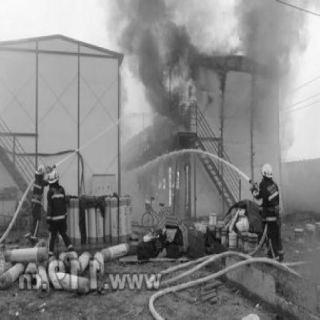Fire: (146, 152, 202, 212), (158, 44, 202, 112)
Smoke: (228, 3, 308, 131), (117, 0, 179, 138)
